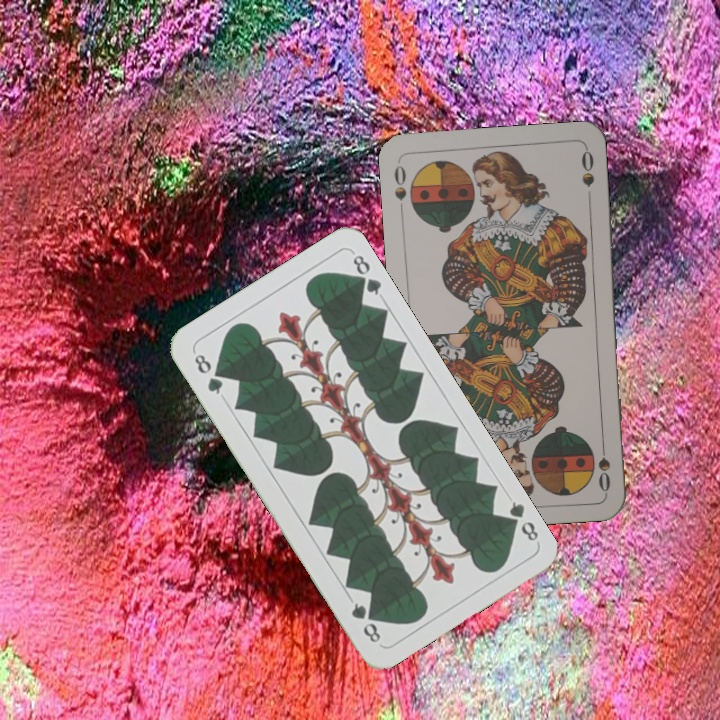G8: (500, 497, 541, 544), (190, 349, 226, 397)
SO: (594, 435, 613, 494), (390, 161, 410, 203)
